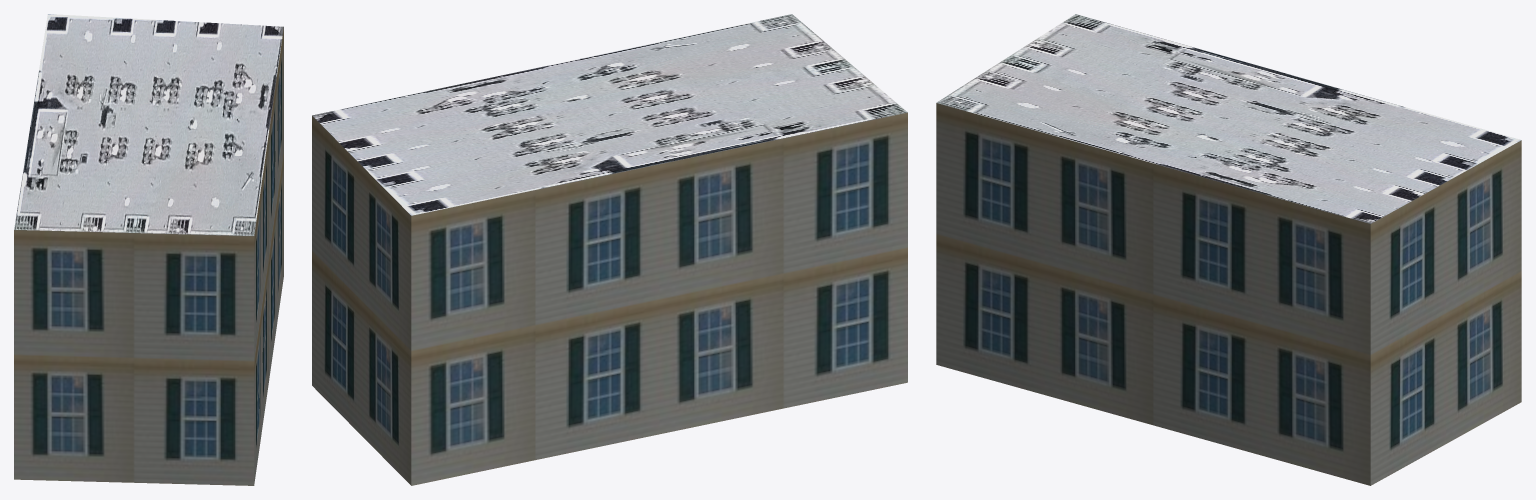
Rendered from ResTex__3814.fbx.
3 views of the same model, side by side, from view 1: azimuth 30°, elevation 25°; view 2: azimuth 150°, elevation 25°; view 3: azimuth 270°, elevation 25° (orthographic). The views are drawn at different scales.
Parts seen in each view (by area): view 1: CityEngineMaterial_7_m, CityEngineMaterial_4_m; view 2: CityEngineMaterial_7_m, CityEngineMaterial_4_m; view 3: CityEngineMaterial_7_m, CityEngineMaterial_4_m.
Part boxes in pixels (x1,y1,x2,y2): CityEngineMaterial_7_m: [14, 27, 283, 485]; CityEngineMaterial_4_m: [14, 14, 283, 235]; CityEngineMaterial_7_m: [312, 112, 907, 485]; CityEngineMaterial_4_m: [312, 14, 907, 215]; CityEngineMaterial_7_m: [936, 103, 1521, 485]; CityEngineMaterial_4_m: [936, 14, 1521, 223].
Size of the model in its own units: 10.32 by 6 by 12.15.
Materials: 2 (2 with a texture image).
